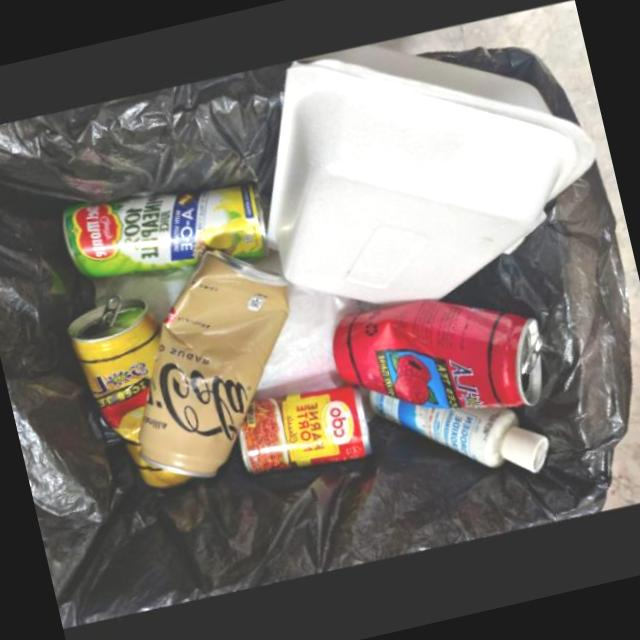chai_nhua: (371, 392, 551, 475)
nhom: (140, 248, 294, 478), (71, 295, 193, 489), (335, 301, 544, 411), (67, 183, 274, 277), (240, 384, 374, 477)
xop: (270, 45, 601, 305)
